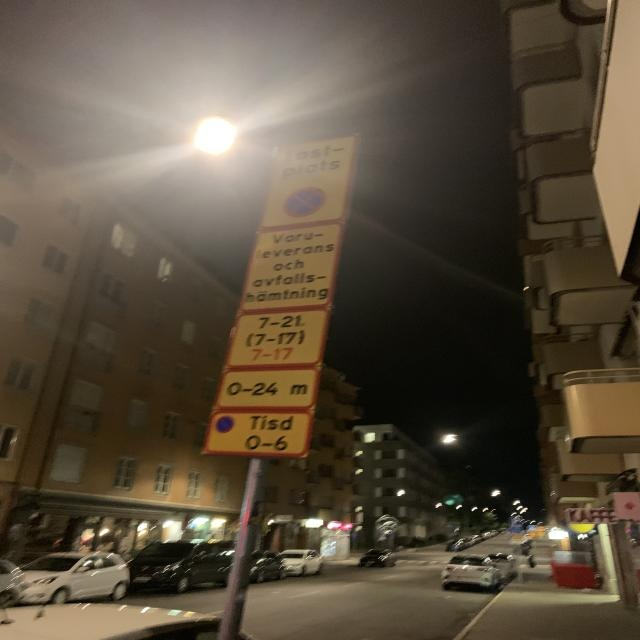lastplats: (255, 132, 361, 233)
